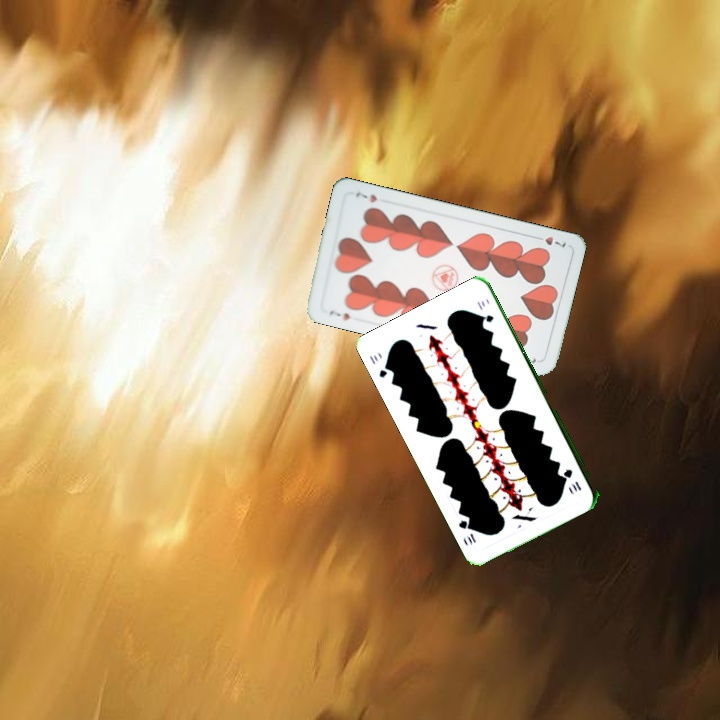G10: (365, 351, 394, 380), (561, 465, 584, 494)
H7: (530, 232, 568, 250), (325, 306, 352, 323)
